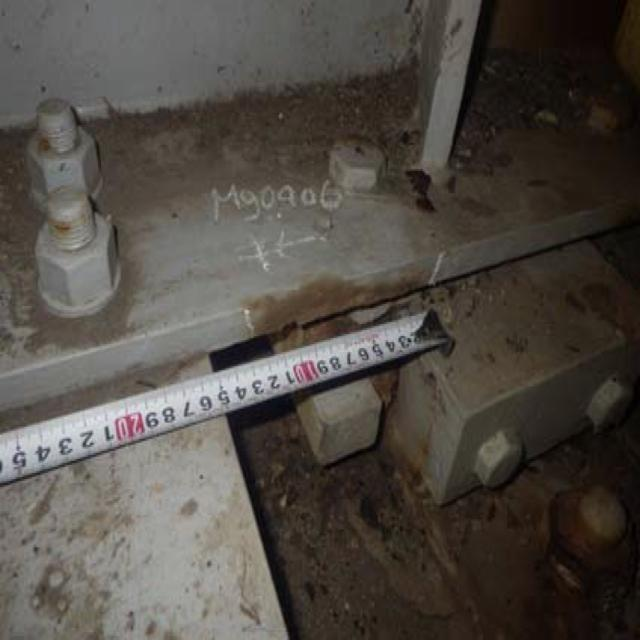corrosion: (229, 259, 427, 357), (30, 178, 113, 273)
